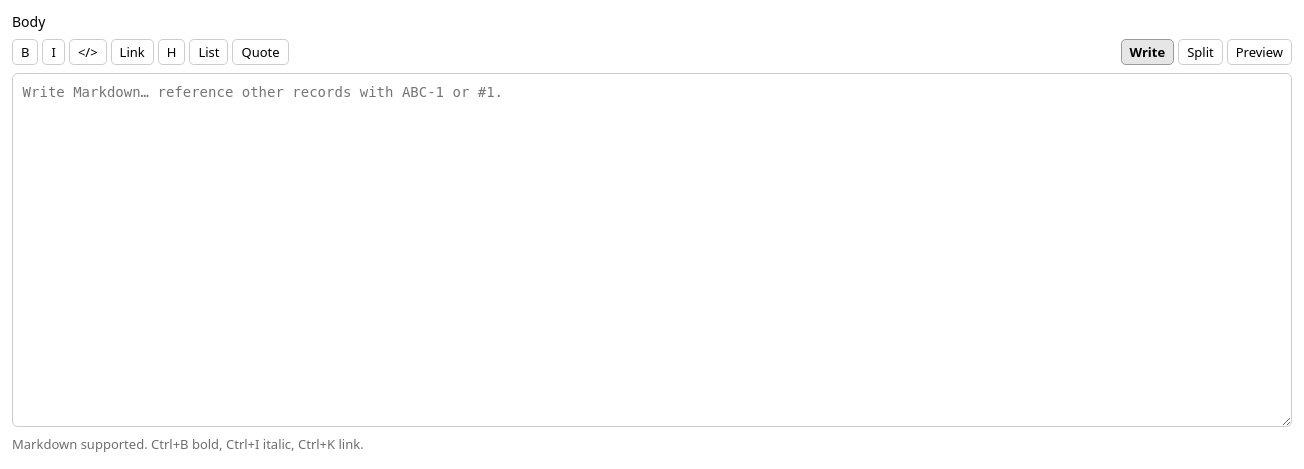
it: MarkdownEditor › shows a placeholder in preview when the body is empty
Click the button "Preview" at (1259, 52), box [1227,39,1292,65]
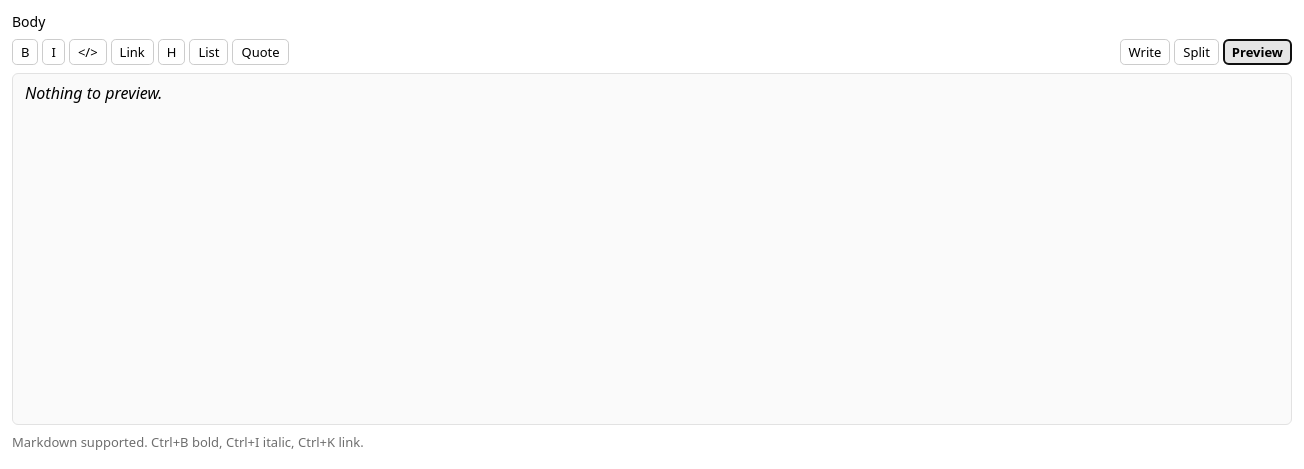
expect the element with test id "markdown-editor-preview" shows "Nothing to preview": met, box [25,82,162,104]
